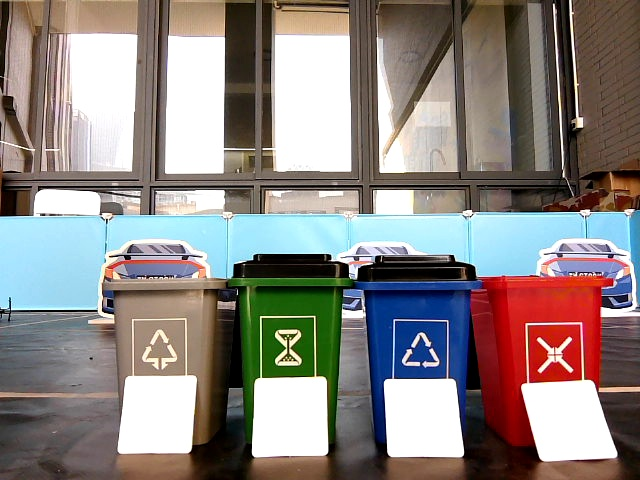blue_close: (363, 254, 462, 375)
green_close: (243, 254, 336, 371)
grey_open: (110, 282, 219, 377)
red_open: (492, 277, 595, 377)
